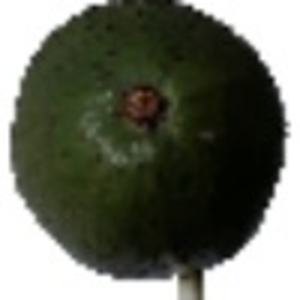abacate: (7, 1, 288, 275)
